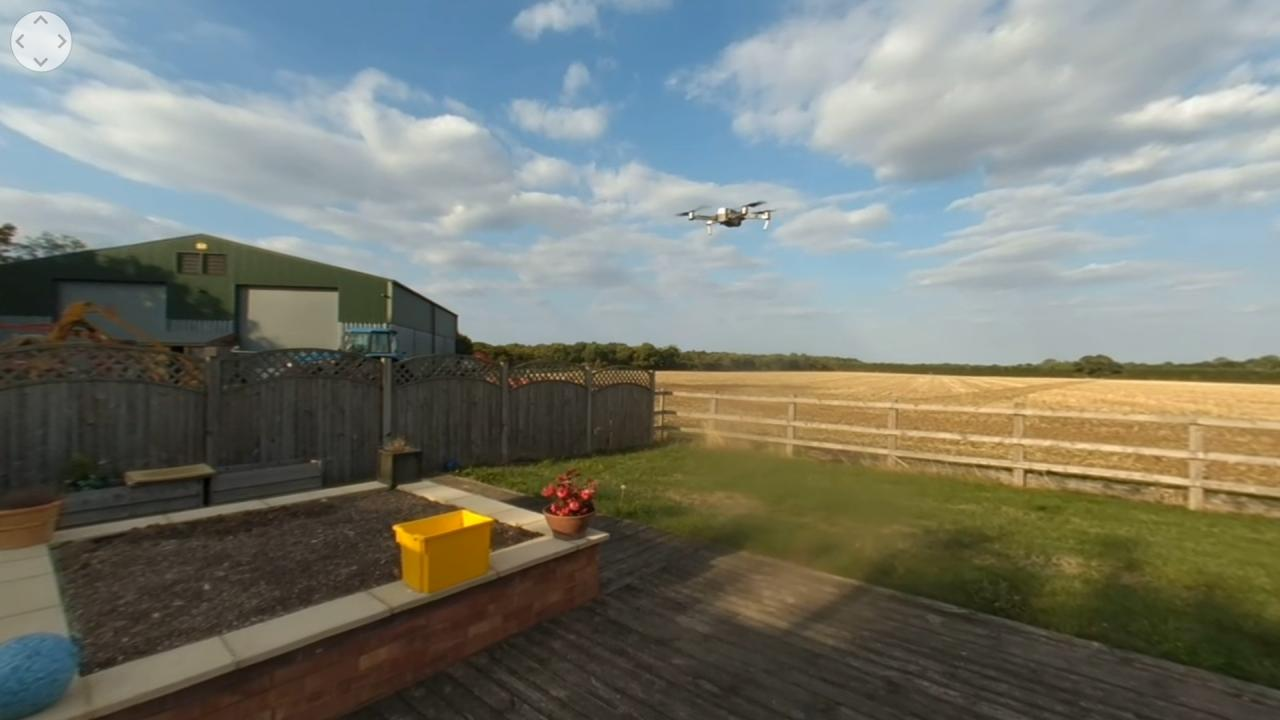Drone: (663, 189, 795, 244)
